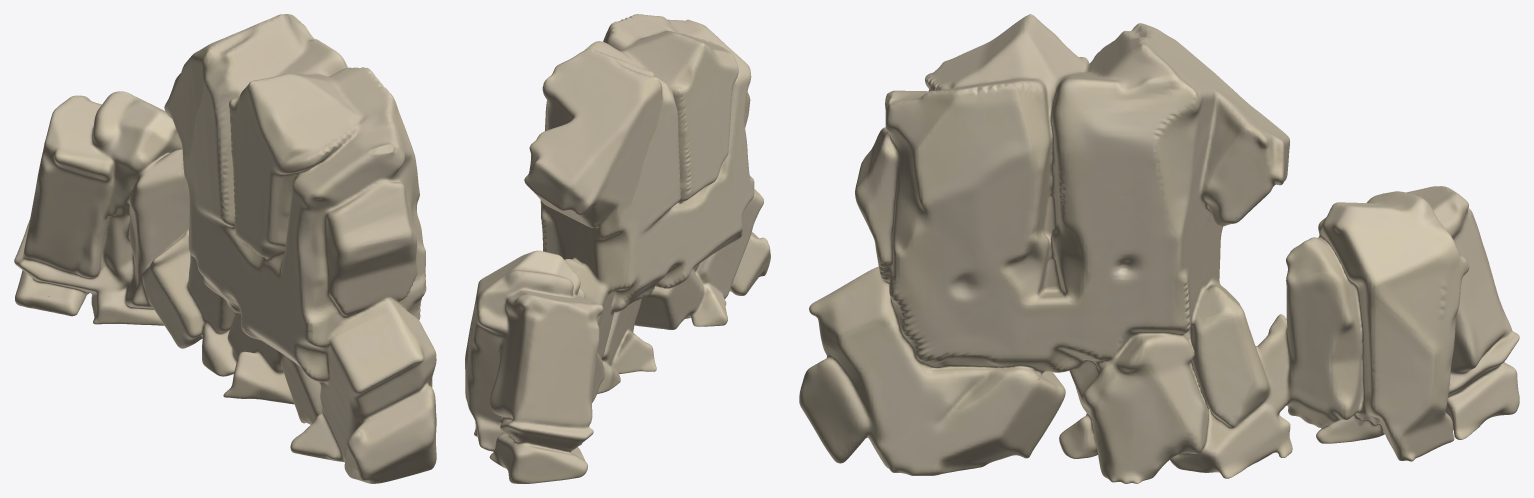
File: deco_boulder_02.fbx
The picture shows the model from 3 angles, left to right: view 1: azimuth 30°, elevation 25°; view 2: azimuth 150°, elevation 25°; view 3: azimuth 270°, elevation 25°; orthographic projection. The views are drawn at different scales.
Parts seen in each view (by area): view 1: tripo_node_b98ca2ca-07a2-42df-b413-aa15a233495b; view 2: tripo_node_b98ca2ca-07a2-42df-b413-aa15a233495b; view 3: tripo_node_b98ca2ca-07a2-42df-b413-aa15a233495b.
Boxes of the visible parts, x1,y1,x2,y2 form: tripo_node_b98ca2ca-07a2-42df-b413-aa15a233495b: (14, 14, 436, 483); tripo_node_b98ca2ca-07a2-42df-b413-aa15a233495b: (465, 14, 770, 483); tripo_node_b98ca2ca-07a2-42df-b413-aa15a233495b: (799, 14, 1519, 483).
Size of the model in its own units: 33.33 by 61.4 by 97.96.
Materials: 1 (1 with a texture image).
